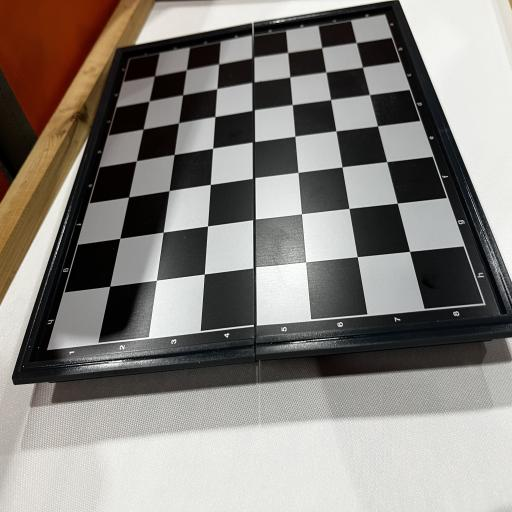Board: (12, 0, 512, 385), (16, 1, 512, 385)
